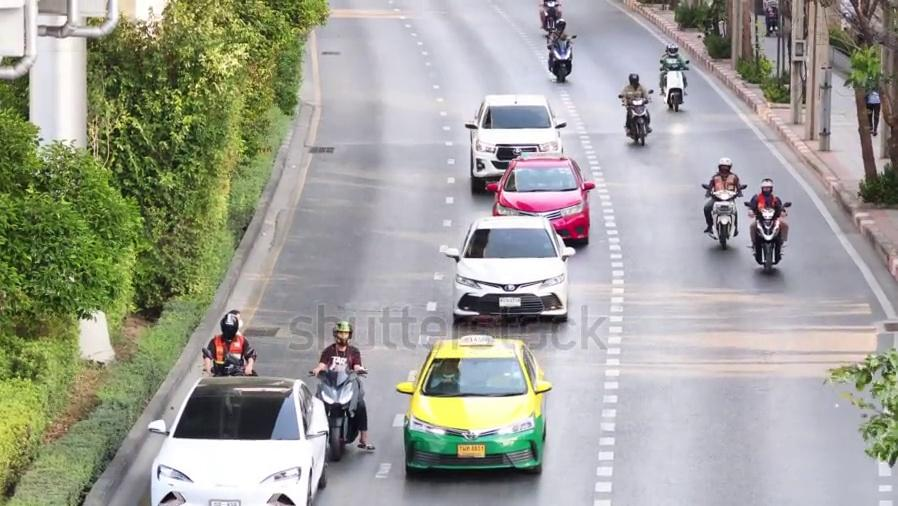person: (864, 86, 881, 136)
rider: (310, 320, 375, 450), (200, 310, 257, 376), (701, 156, 743, 235), (746, 177, 788, 250), (540, 11, 578, 86), (618, 73, 652, 134), (658, 43, 689, 97)
with_helmate: (326, 322, 356, 347), (217, 316, 240, 339), (759, 178, 779, 199), (663, 44, 683, 59), (716, 159, 734, 174), (552, 16, 569, 31), (624, 76, 642, 87)
